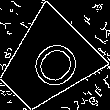O_SW: (14, 30, 80, 96)
